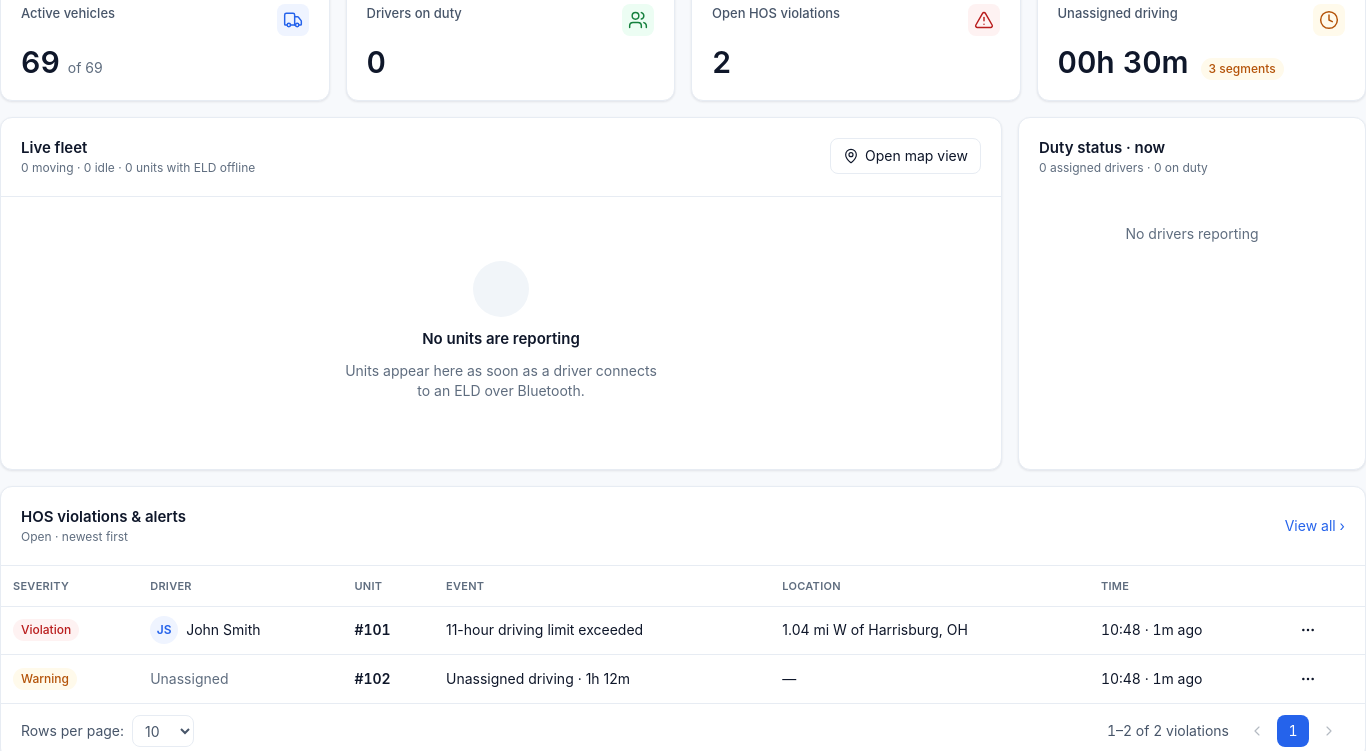
Scenario: W-01 Fleet Dashboard › HOS violations & alerts · row menu › Open HOS logs navigates to the driver log day, without also firing the row click
expect the text "11-hour driving limit exceeded" is shown: met, box x1=434 y1=606 x2=770 y2=654
Click the button named "Row actions" in the row of "JS".
click(1308, 630)  # box x1=1292 y1=614 x2=1324 y2=646
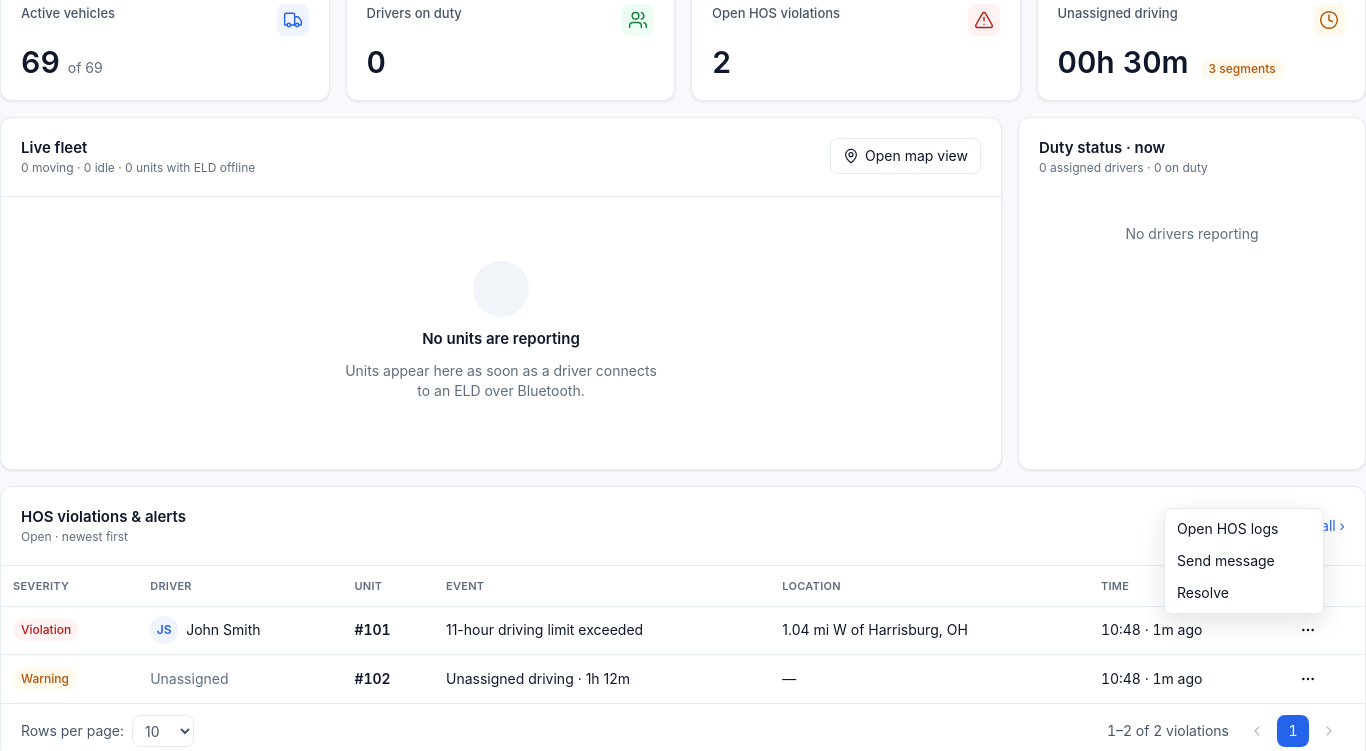
Click the menu item "Open HOS logs".
click(1228, 528)  # box x1=1177 y1=520 x2=1278 y2=537
(page scrolled)
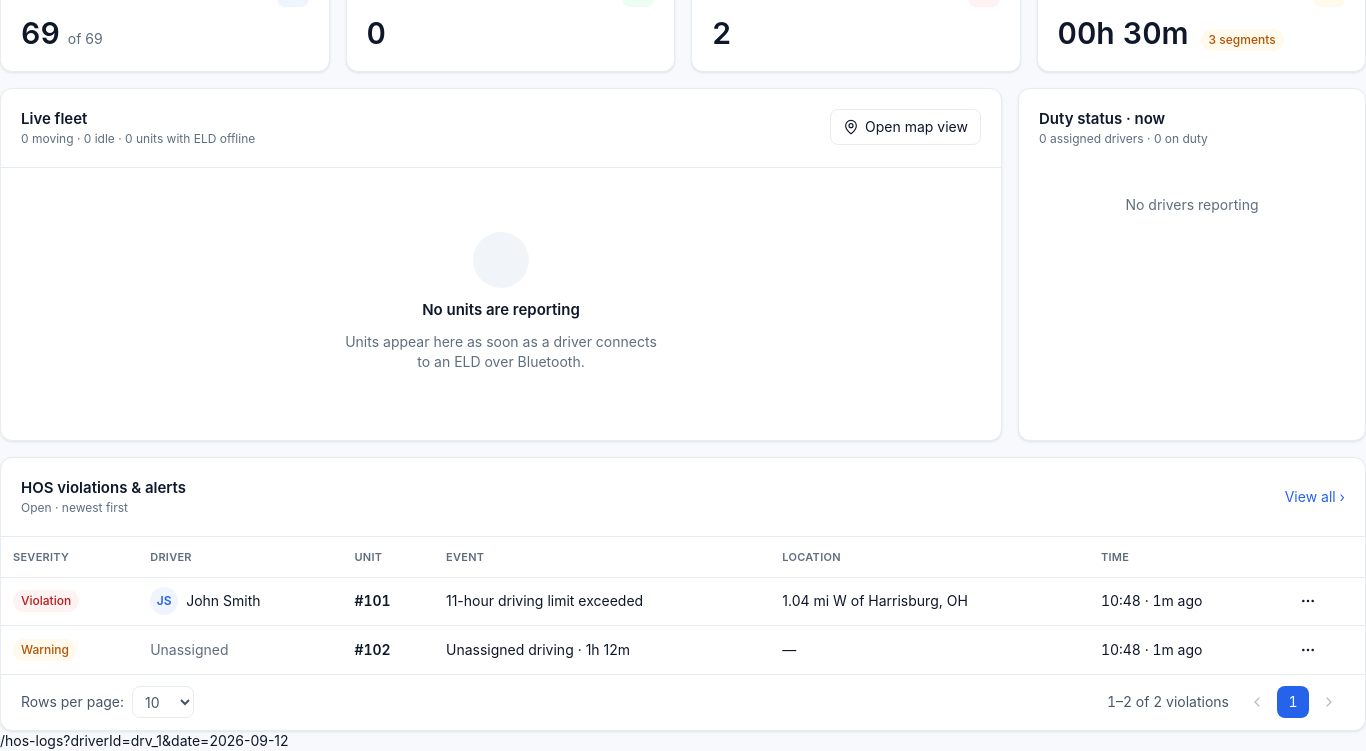
expect the text with test id "location" reads "/hos-logs?driverId=drv_1&date=2026-09-12": met, box x1=0 y1=732 x2=289 y2=748
